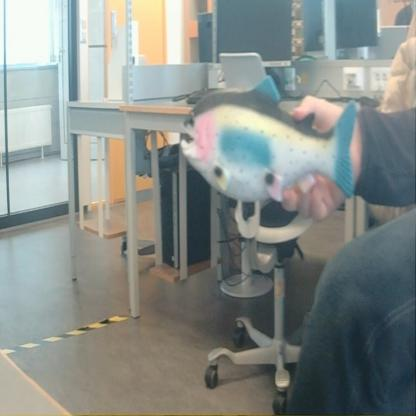rubberfish: (180, 73, 364, 207)
